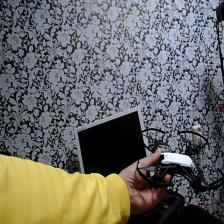drone: (131, 124, 222, 206)
